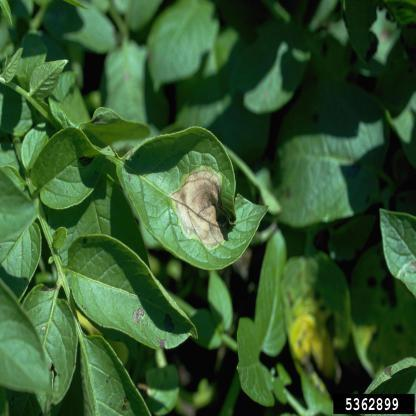Potato leaf late blight: (114, 124, 270, 270), (66, 230, 198, 352), (28, 122, 113, 210), (77, 102, 151, 144)
